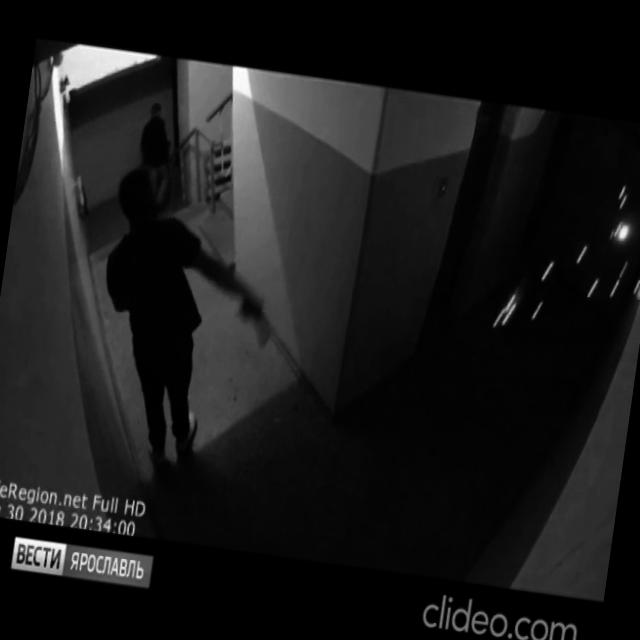gun: (232, 288, 278, 352)
person: (129, 97, 183, 214)
person with a gun: (77, 158, 296, 483)
